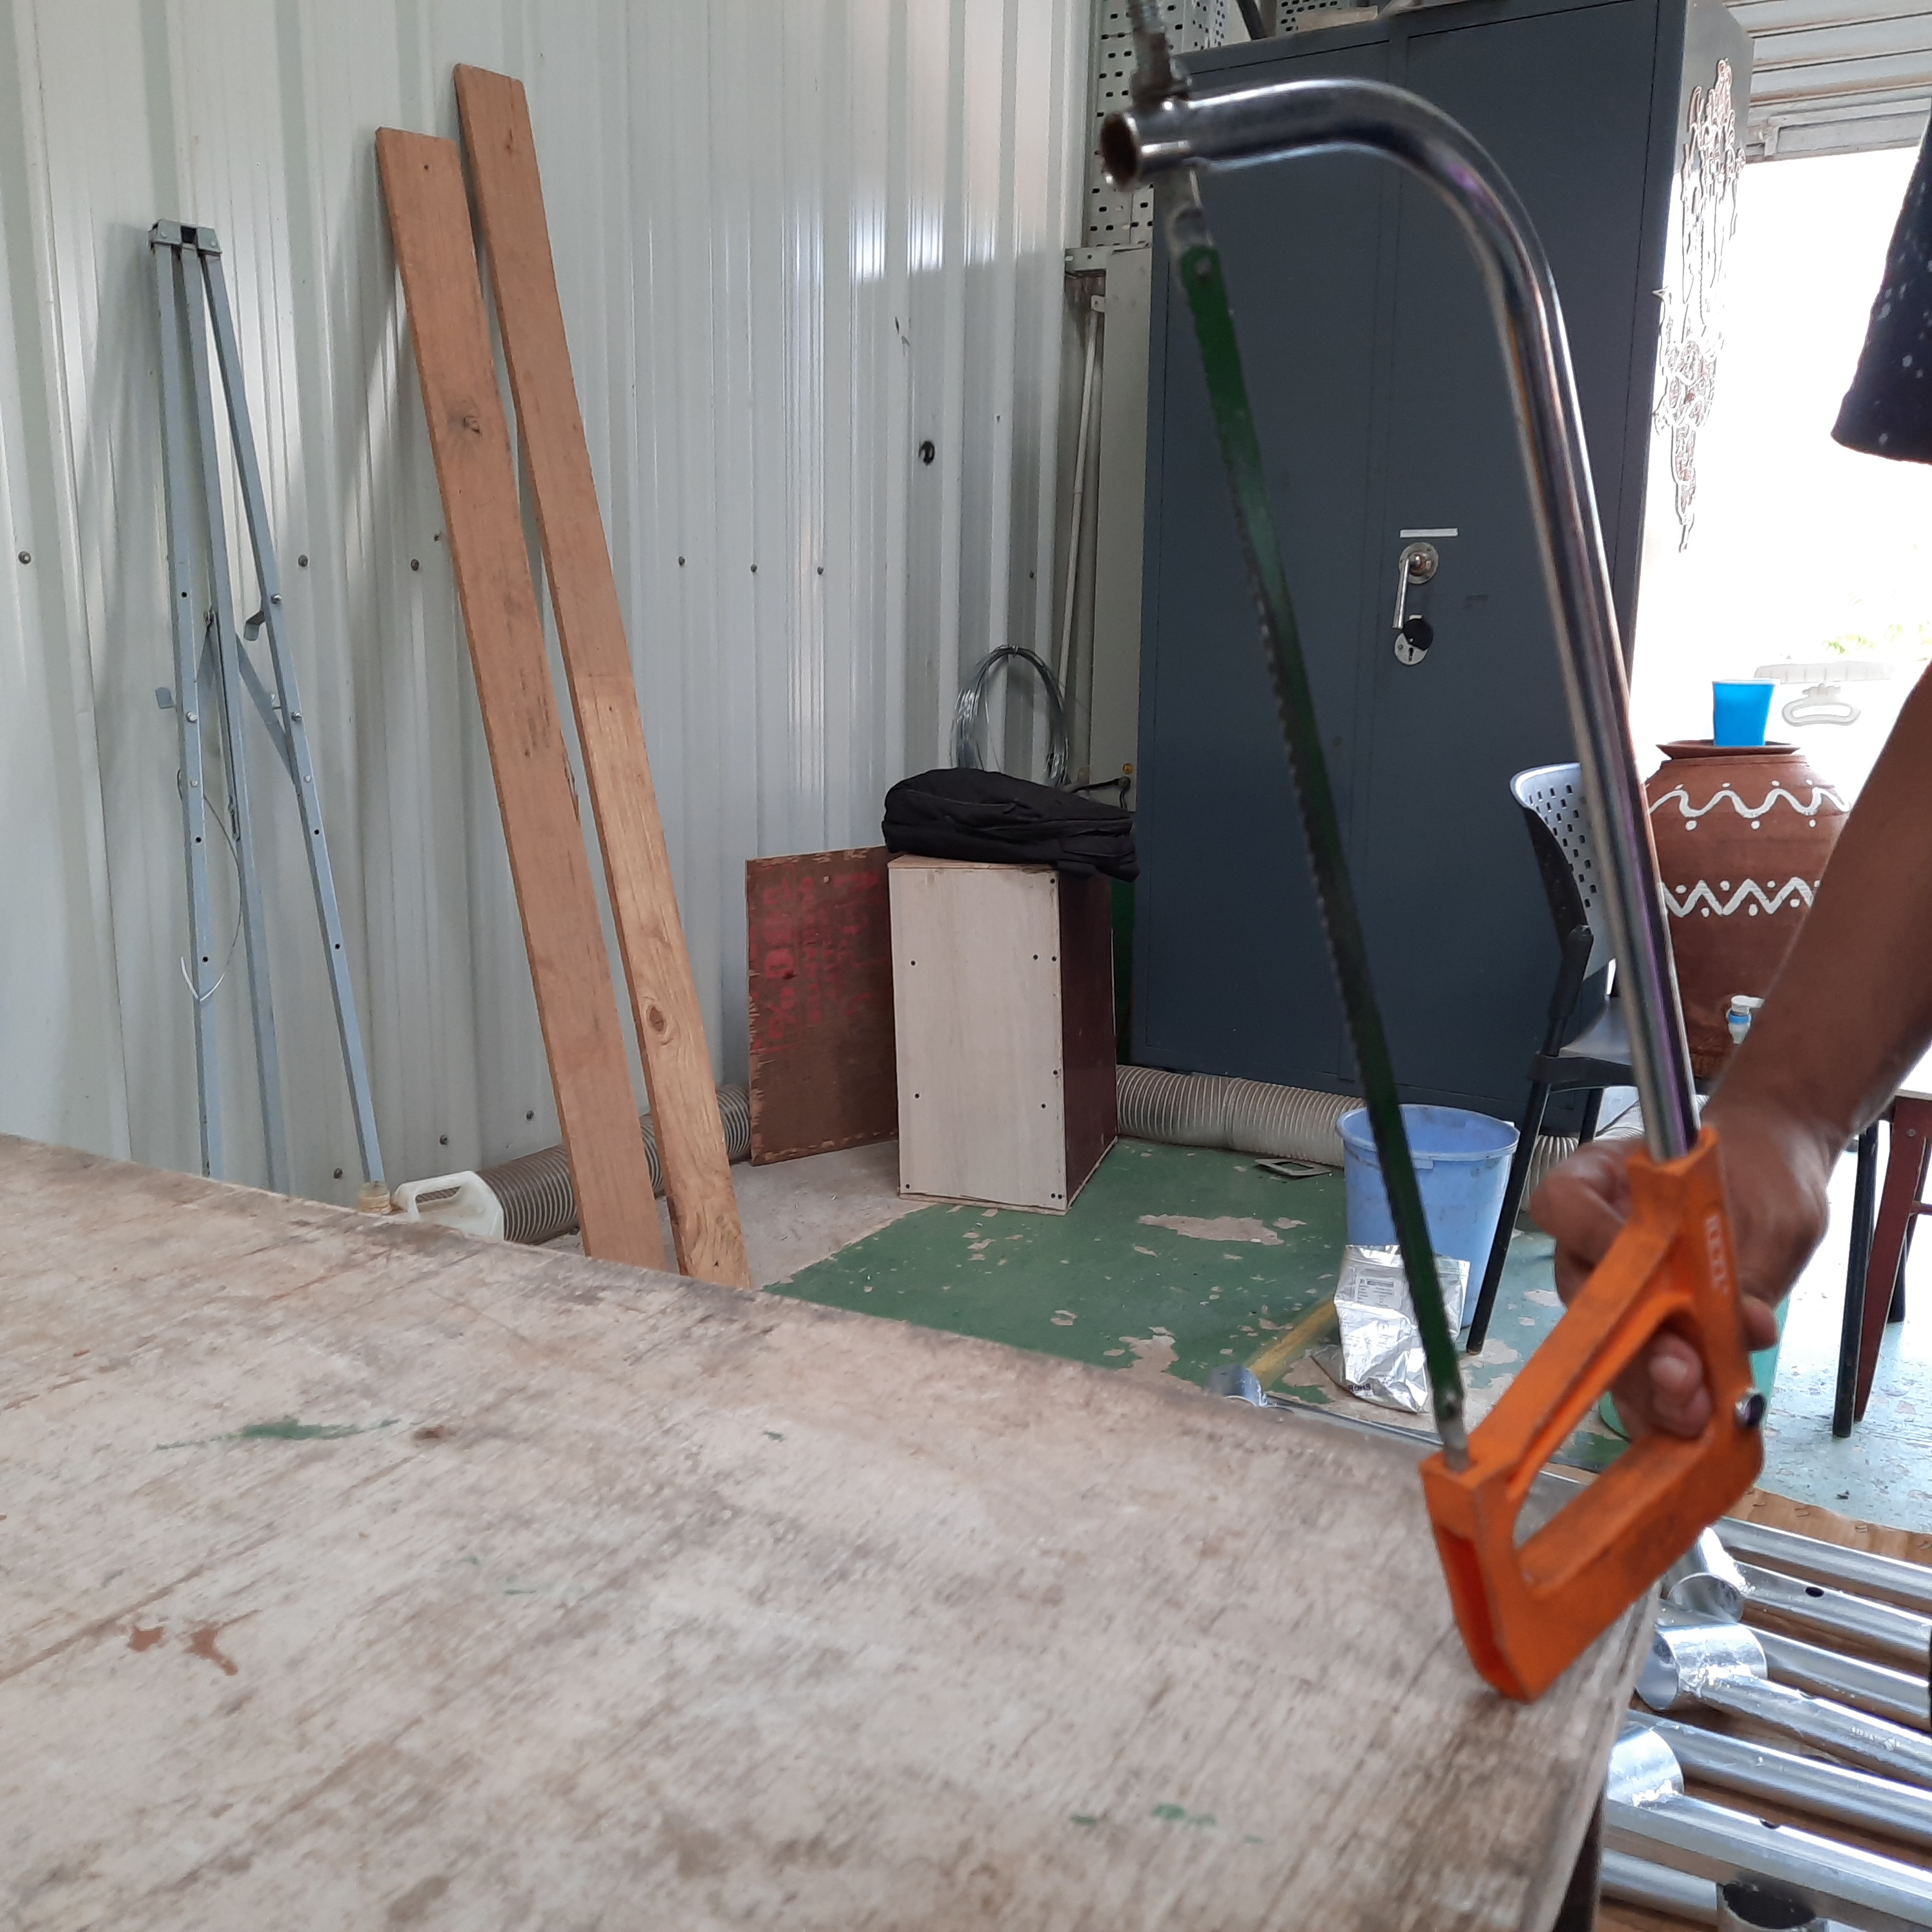Hexaframe: (1095, 19, 1782, 1720)
